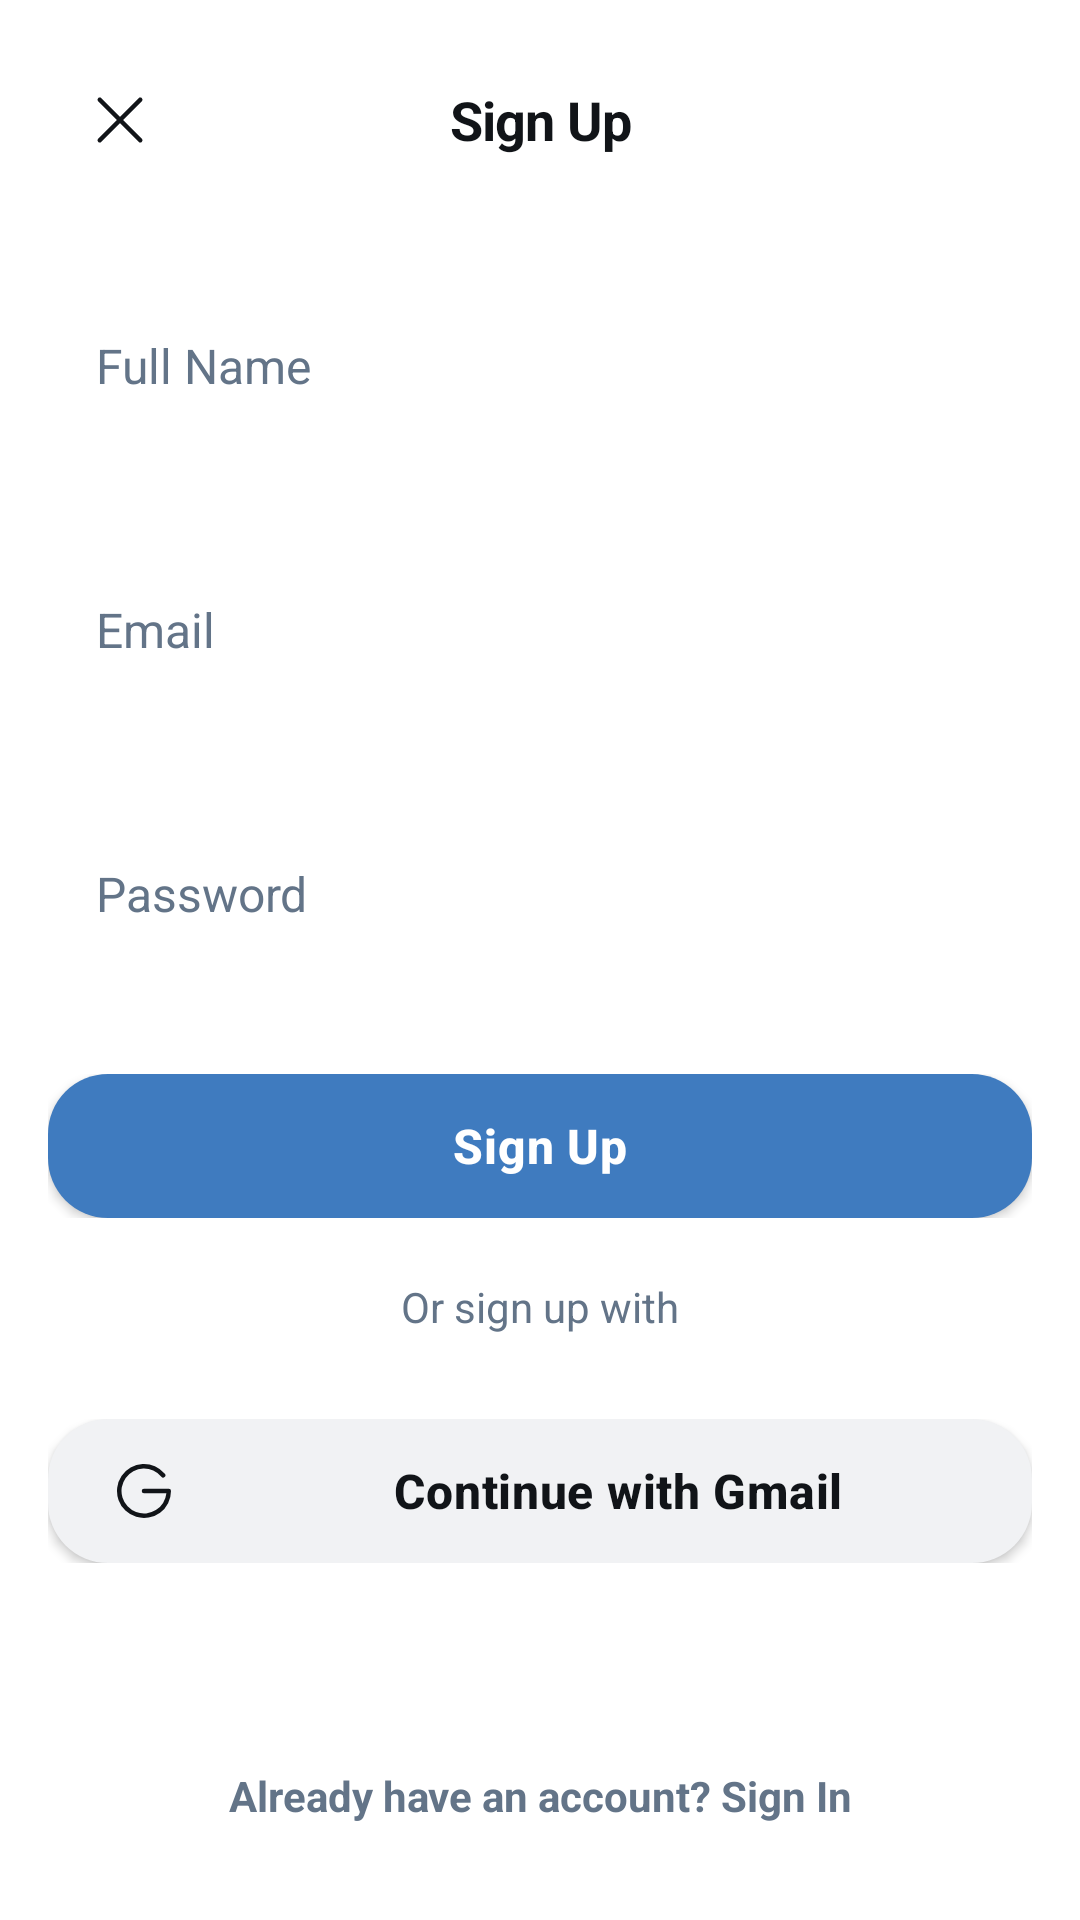

Icon bounding boxes for this 1080x1920 phone screenshot, format BBox(x1, y1, x2, y2):
Close: BBox(97, 97, 143, 143)
